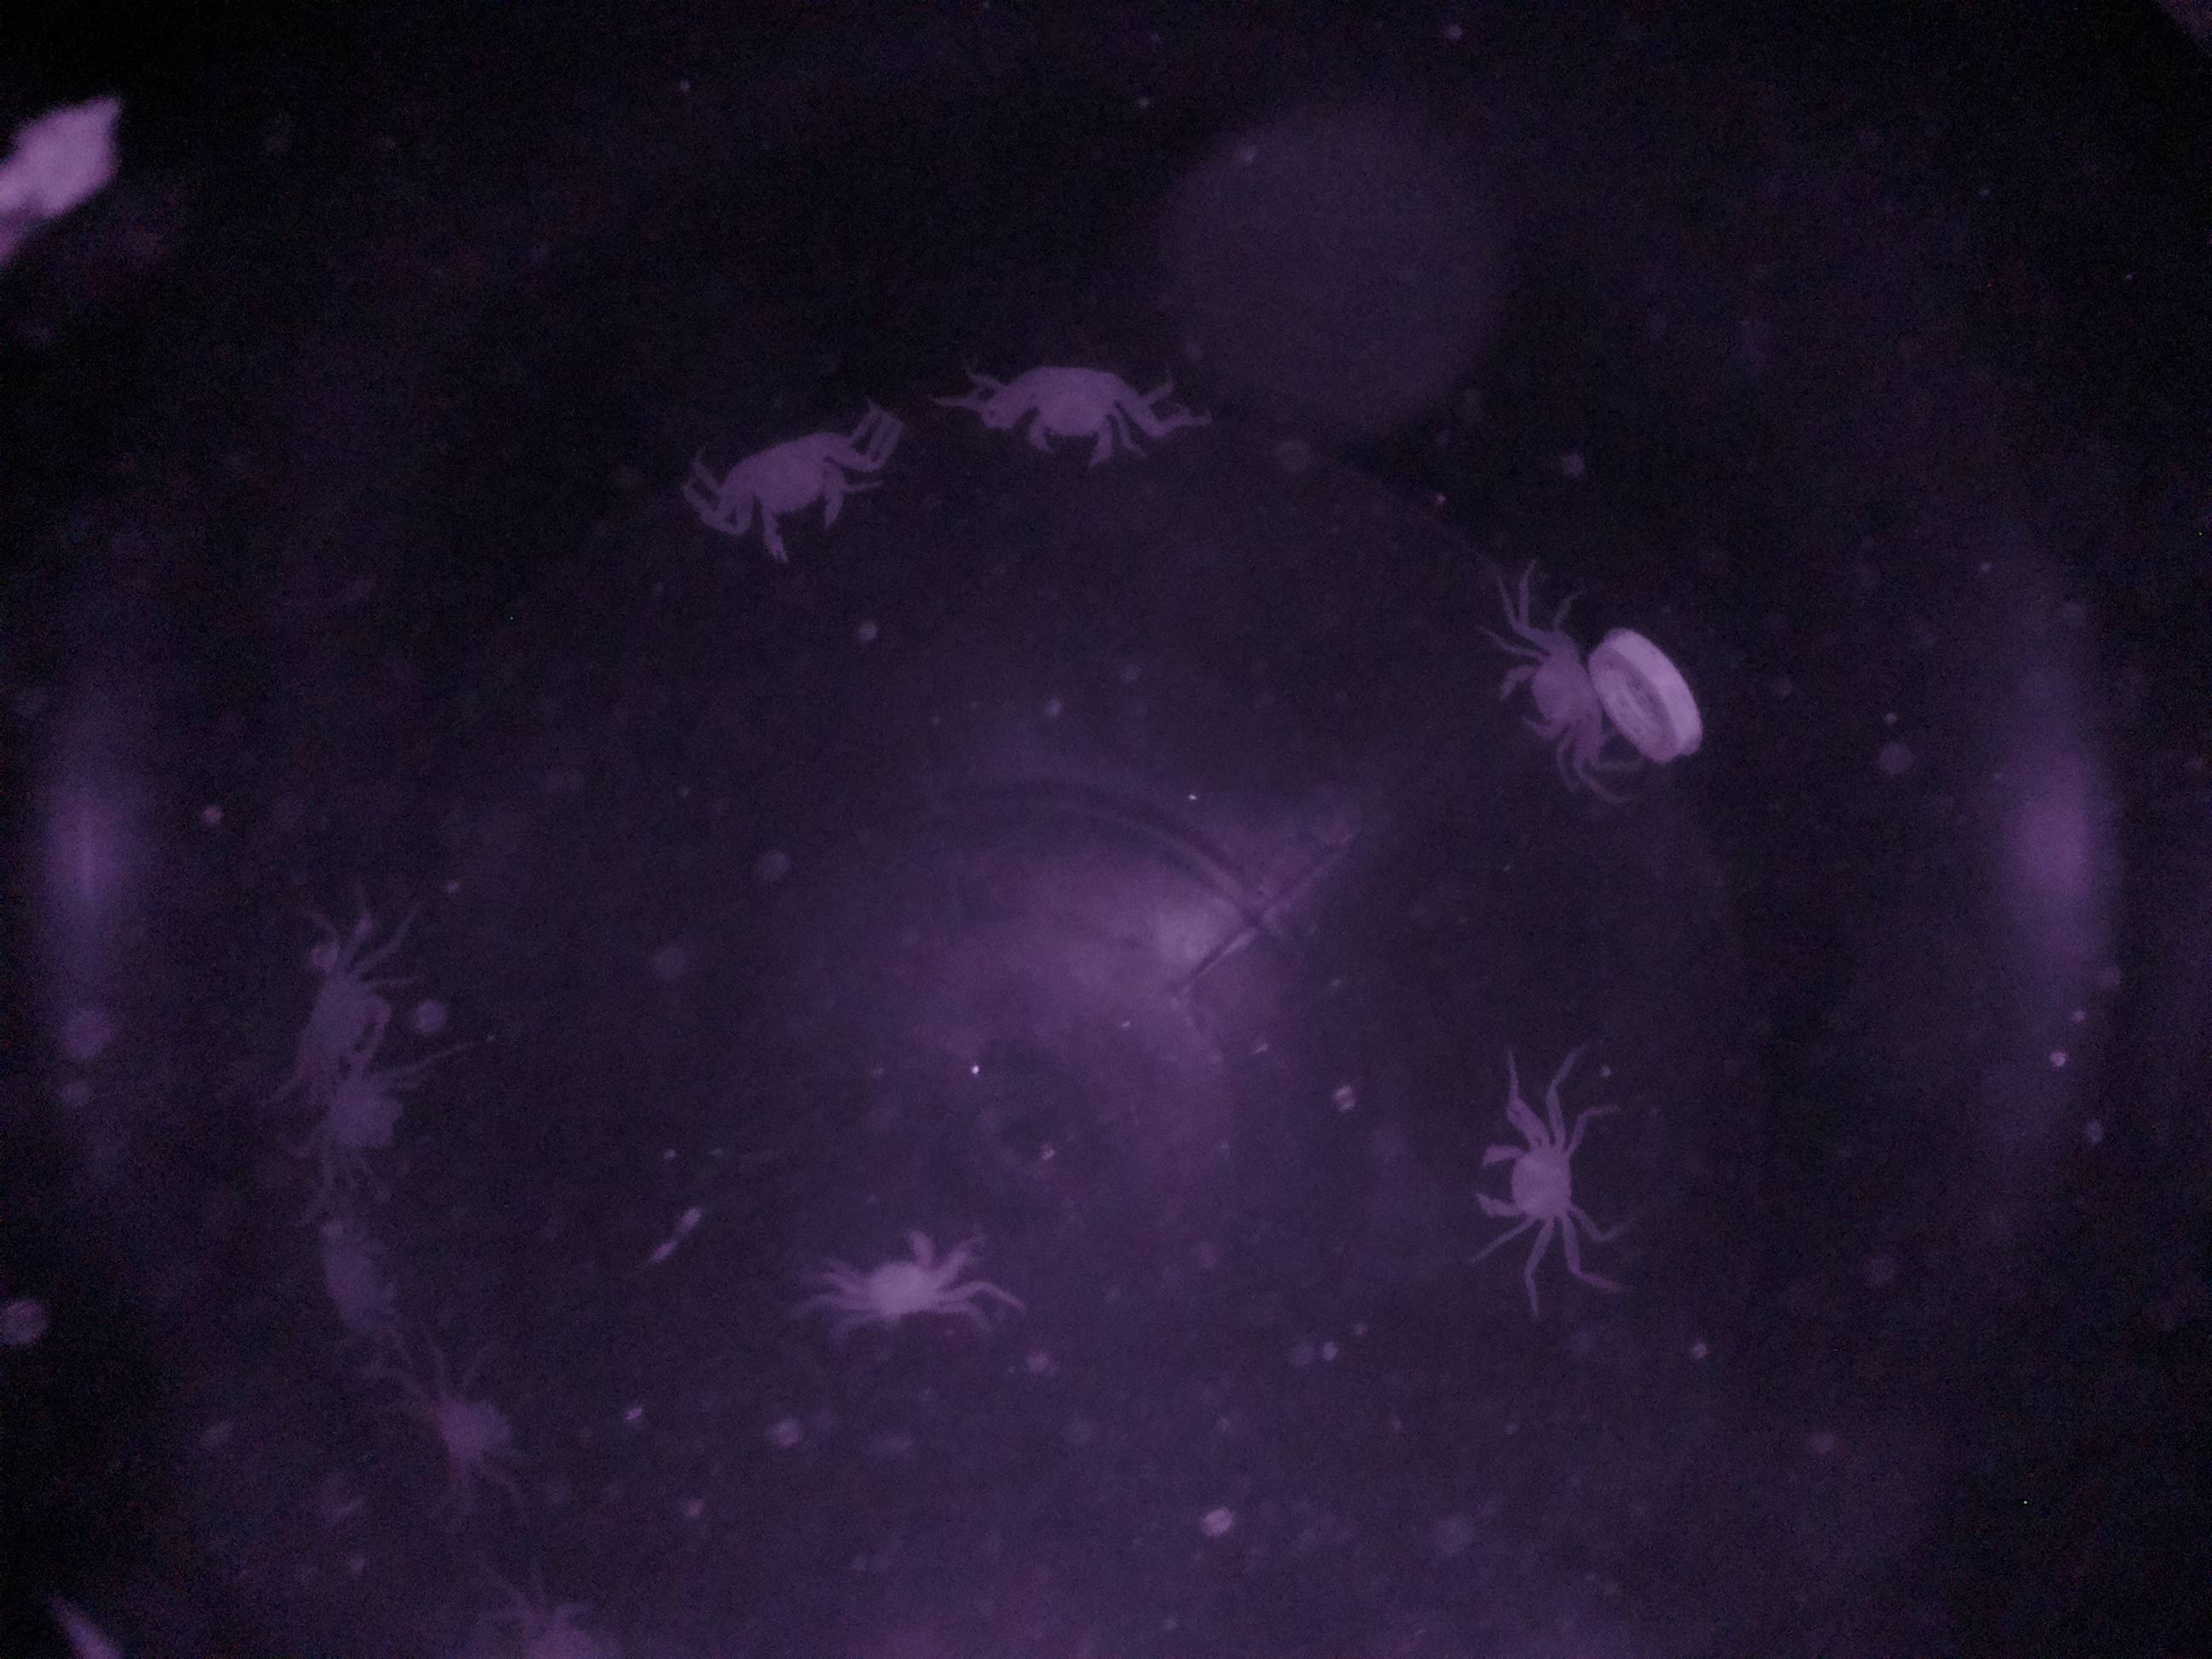Crab: (700, 401, 880, 589), (1449, 1103, 1609, 1265), (1480, 591, 1618, 770), (982, 350, 1160, 477)
